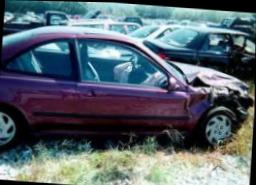Bonnet: (168, 59, 249, 93)
Fender: (184, 88, 246, 133)
